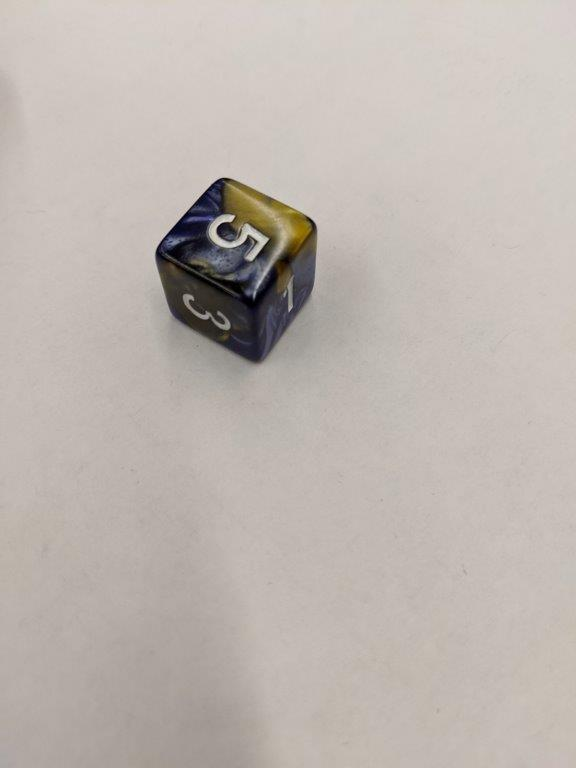d6-5: (154, 175, 320, 364)
